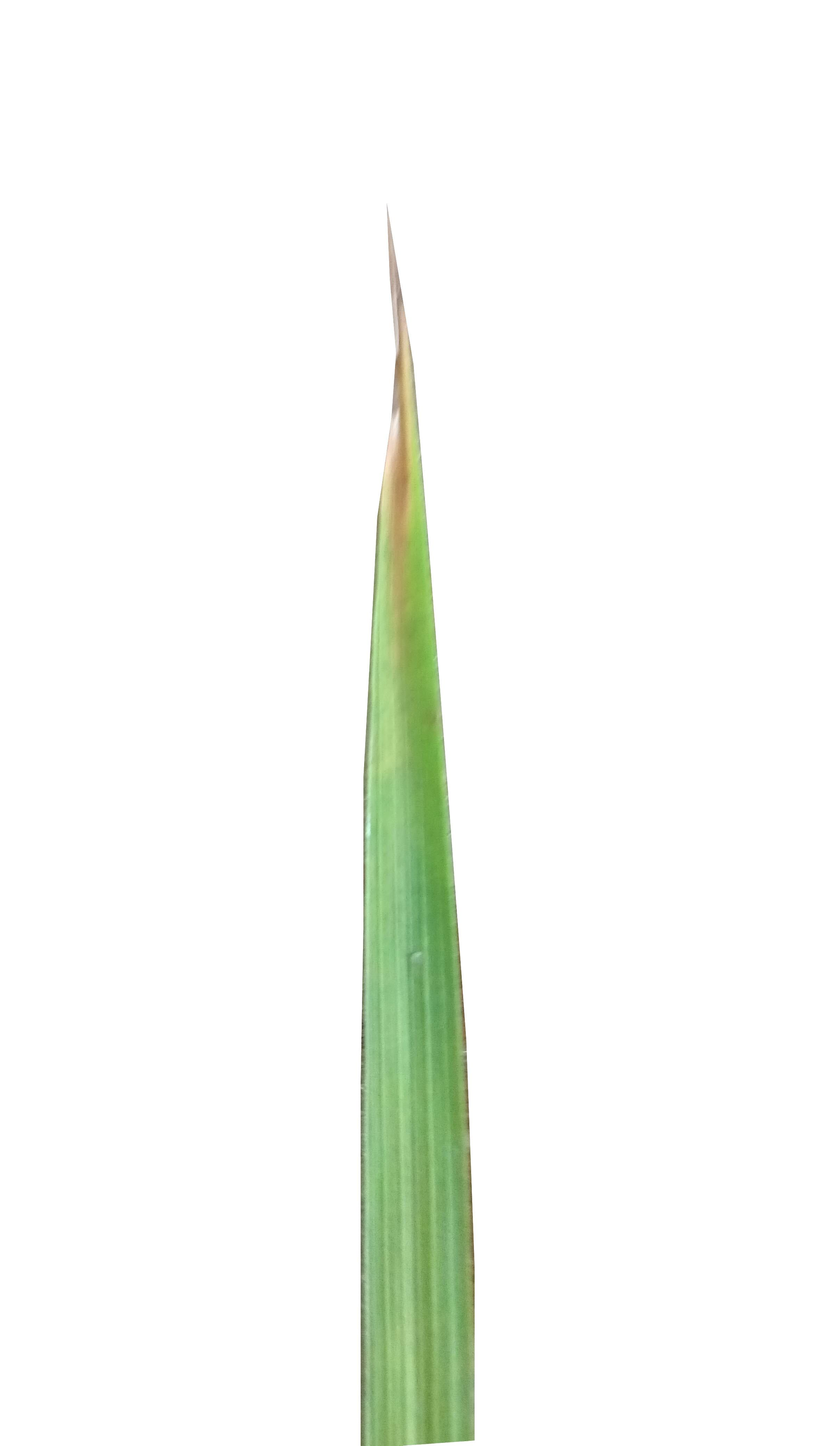Tungro: (369, 362, 454, 841)
